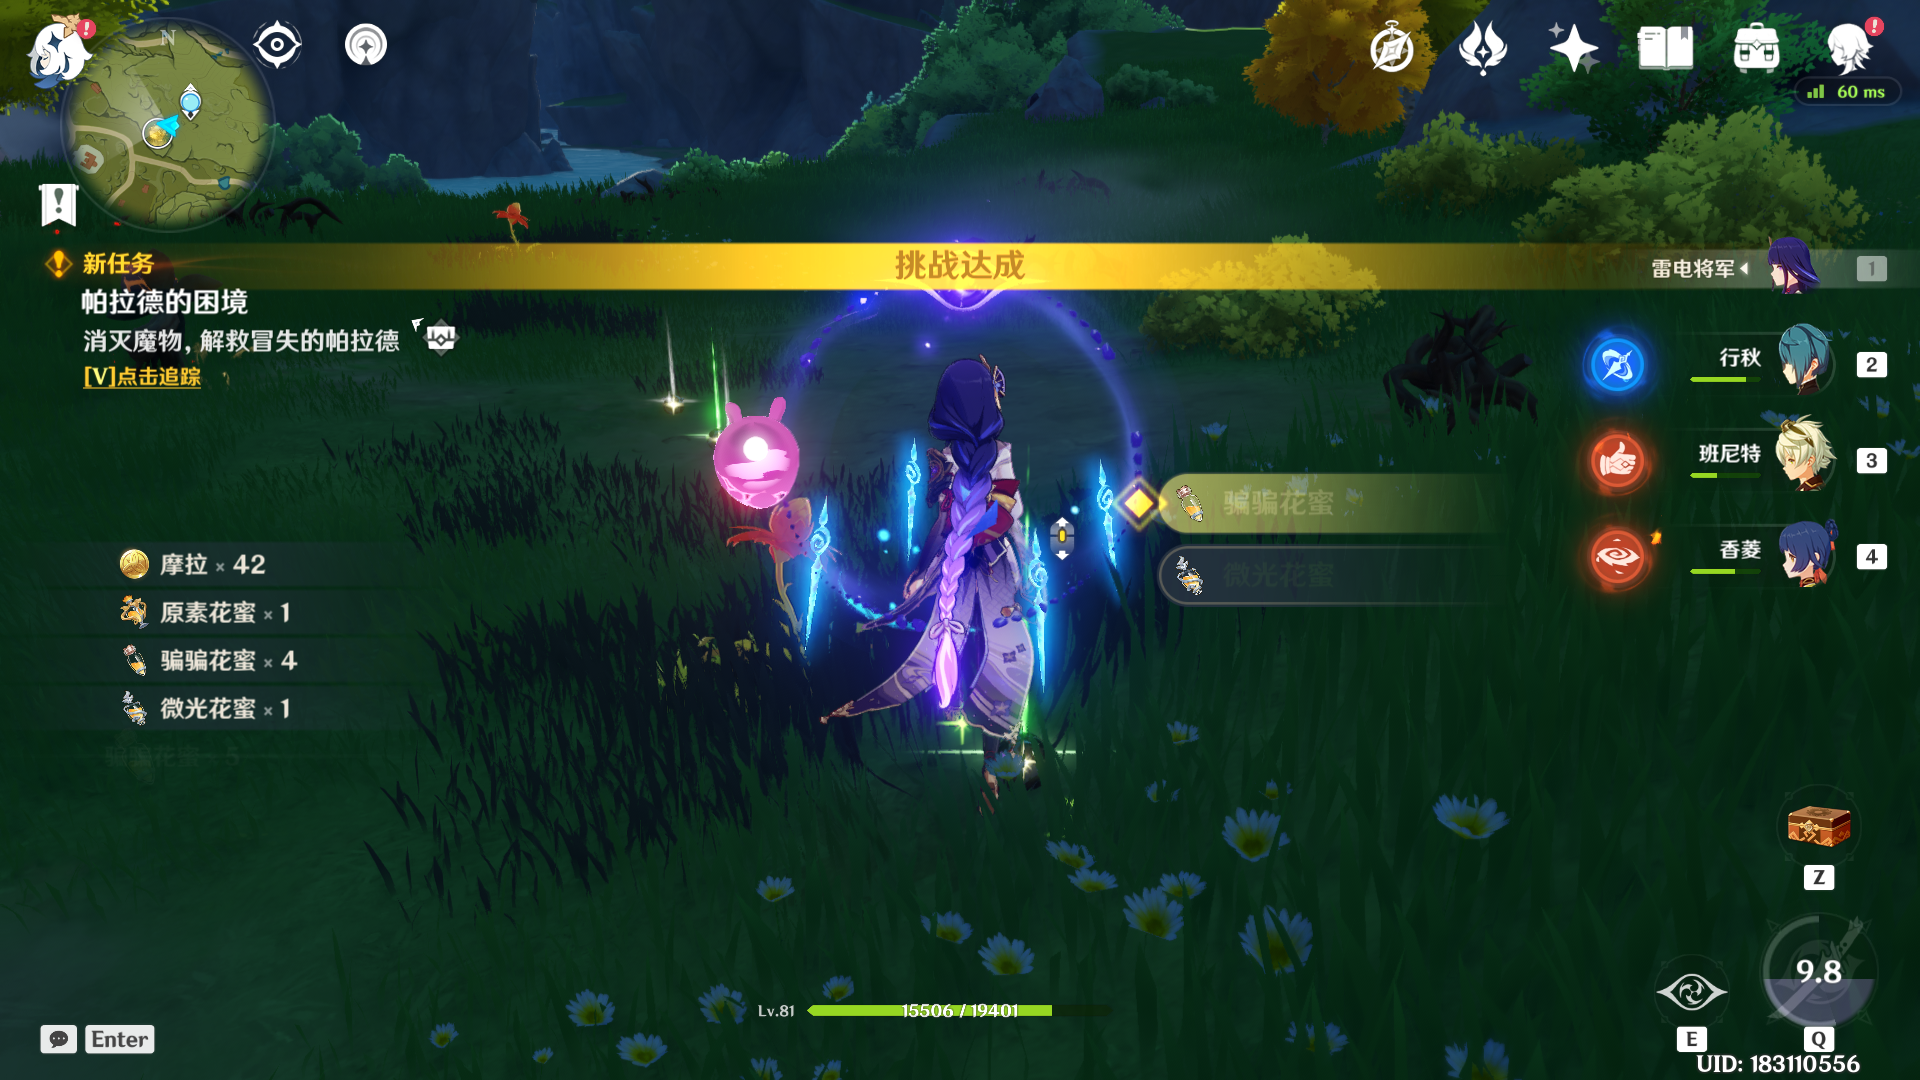character: (836, 342, 1105, 798)
